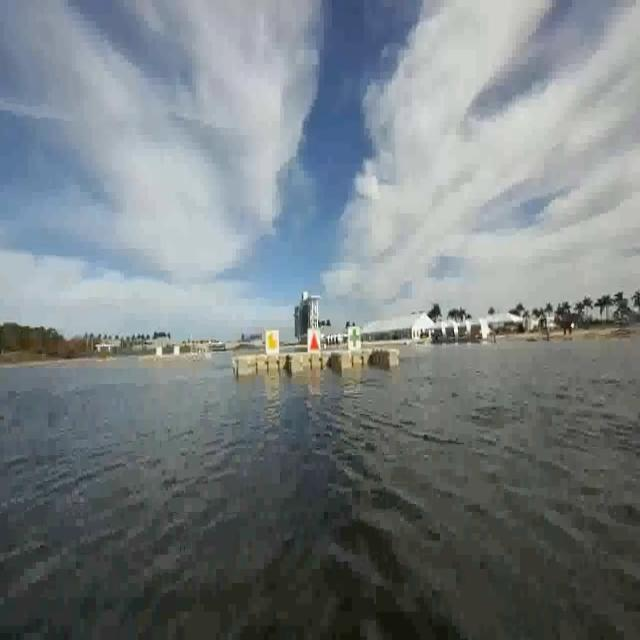blue-cross: (348, 326, 360, 352)
red-dot: (308, 331, 321, 354)
yellow-duck: (265, 331, 277, 356)
